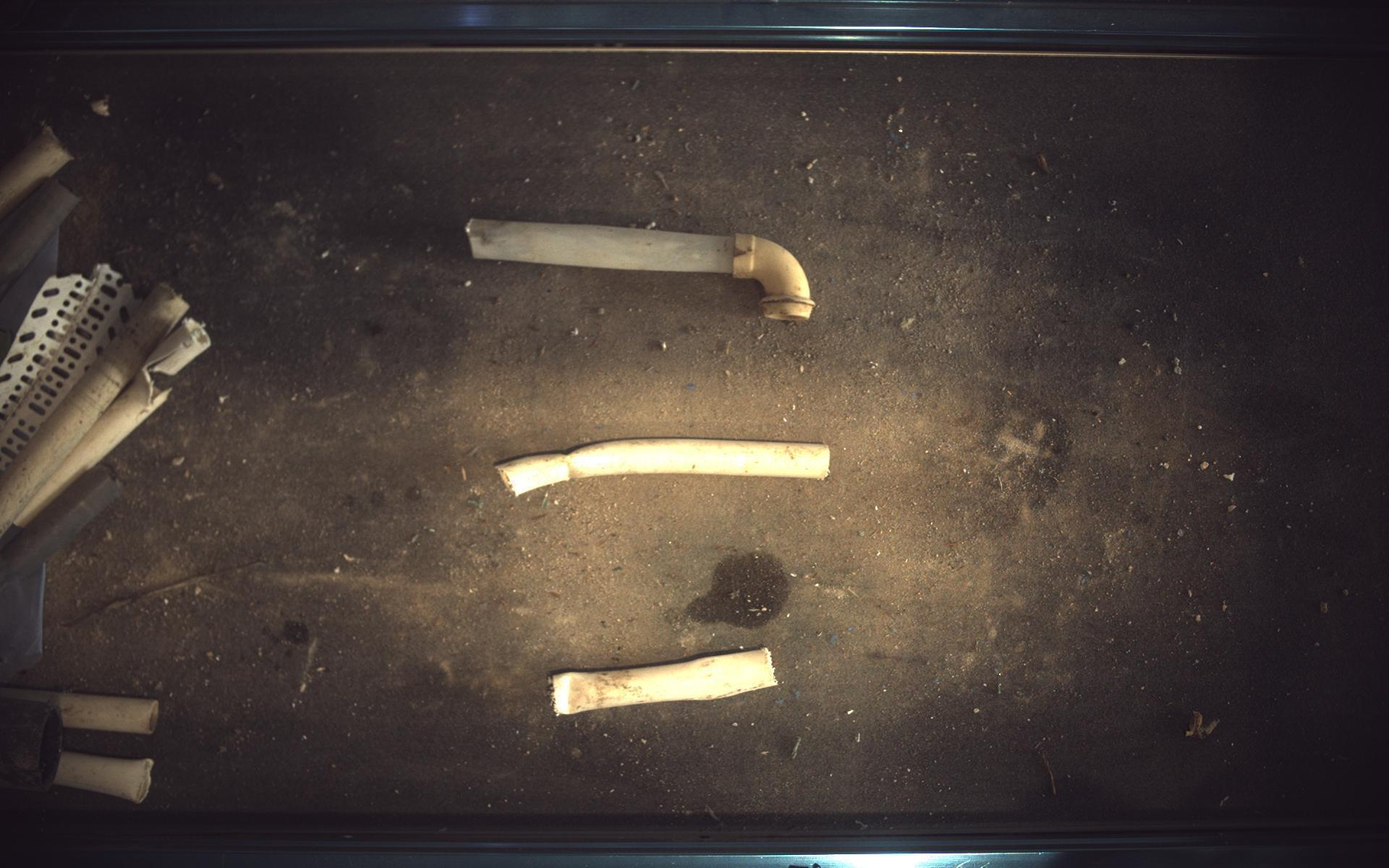pipes: (1, 282, 188, 535), (13, 318, 210, 526), (466, 218, 815, 320), (496, 439, 832, 496), (553, 649, 778, 715), (1, 177, 78, 295), (1, 690, 158, 736), (1, 126, 71, 218), (1, 699, 61, 793), (52, 753, 153, 805)
plastic: (1, 264, 135, 475), (1, 466, 119, 589)
